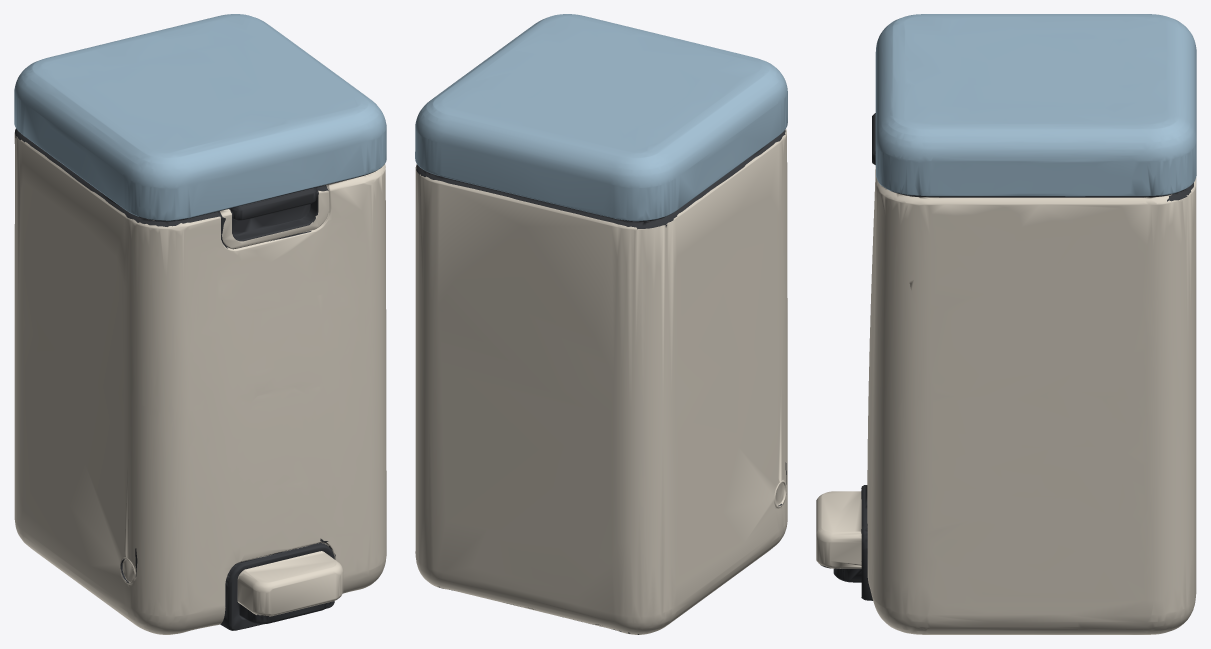
Rendered from trash-can.glb.
3 views of the same model, side by side, from view 1: azimuth 30°, elevation 25°; view 2: azimuth 150°, elevation 25°; view 3: azimuth 270°, elevation 25° (orthographic). The views are drawn at different scales.
Visible parts, largest first — view 1: 桶身, 桶盖, 踏板; view 2: 桶身, 桶盖; view 3: 桶身, 桶盖, 踏板.
Part boxes in pixels (x1,y1,x2,y2): 桶身: [14, 128, 386, 634]; 桶盖: [14, 14, 386, 220]; 踏板: [237, 551, 343, 624]; 桶身: [415, 129, 787, 634]; 桶盖: [415, 14, 787, 222]; 桶身: [861, 113, 1196, 634]; 桶盖: [875, 14, 1196, 196]; 踏板: [816, 491, 861, 582].
Size of the model in its own units: 0.5344 by 0.9633 by 0.6529.
